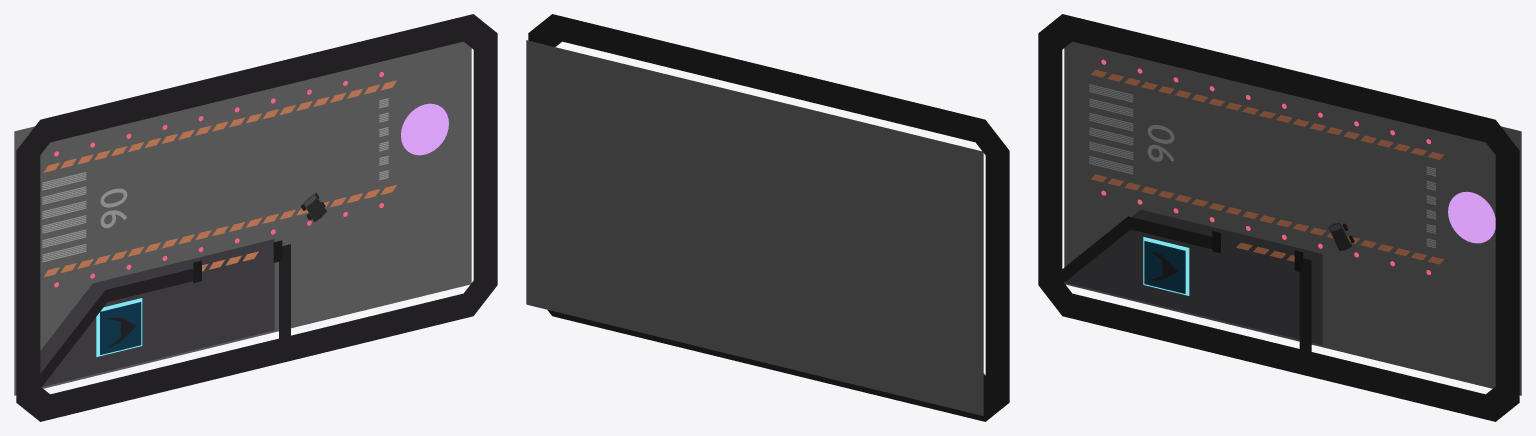
Rendered from Local.glb.
3 views of the same model, side by side, from view 1: azimuth 30°, elevation 25°; view 2: azimuth 150°, elevation 25°; view 3: azimuth 330°, elevation 25° (orthographic).
Visible parts, largest first — view 1: Floor, Border, DockingFloor, TrackLeft, DockingBlocker.001, MatchmakePortal, WarningBar, WarningBar.002, DockingBG, DockingBlocker, TrackRight, DockingPlatform (+1 smaller); view 2: Floor, Border; view 3: Floor, Border, DockingFloor, TrackLeft, DockingBlocker.001, MatchmakePortal, WarningBar, WarningBar.002, DockingBG, DockingBlocker, DockingPlatform, TrackRight (+1 smaller).
Boxes of the visible parts, x1,y1,x2,y2 form: Floor: (14, 41, 471, 395); Border: (16, 14, 497, 421); DockingFloor: (40, 239, 274, 386); TrackLeft: (42, 172, 86, 262); DockingBlocker.001: (40, 269, 193, 386); MatchmakePortal: (401, 103, 448, 155); WarningBar: (43, 80, 396, 172); WarningBar.002: (44, 185, 396, 276); DockingBG: (100, 302, 141, 354); DockingBlocker: (279, 244, 290, 348); TrackRight: (379, 98, 388, 180); DockingPlatform: (96, 298, 142, 356); Floor: (526, 40, 983, 415); Border: (528, 14, 1009, 421); Floor: (1064, 41, 1521, 395); Border: (1038, 14, 1519, 421); DockingFloor: (1065, 209, 1322, 345); TrackLeft: (1089, 84, 1133, 174); DockingBlocker.001: (1062, 216, 1212, 282); MatchmakePortal: (1448, 191, 1495, 243); WarningBar: (1091, 69, 1443, 159); WarningBar.002: (1091, 174, 1443, 264); DockingBG: (1144, 241, 1185, 293); DockingBlocker: (1299, 258, 1311, 362); DockingPlatform: (1143, 237, 1189, 295); TrackRight: (1426, 166, 1435, 248).
Size of the model in its own units: 2000 by 1200 by 112.
